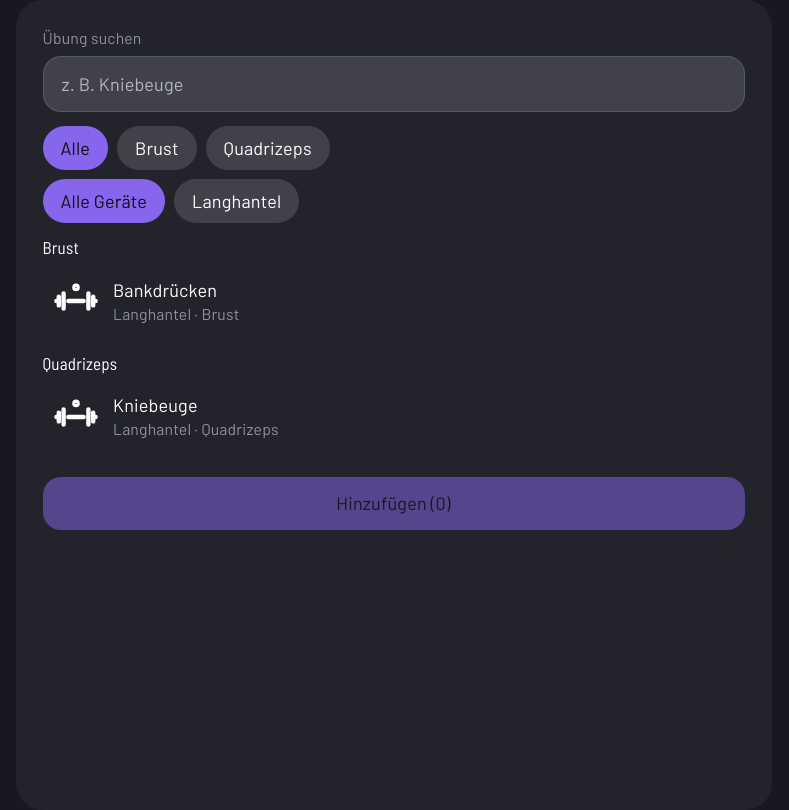
Scenario: ExercisePicker › filters by search
Step 1. Type "Kniebeuge" into the field labelled "Übung suchen" → (394, 84), box x1=42 y1=56 x2=744 y2=112
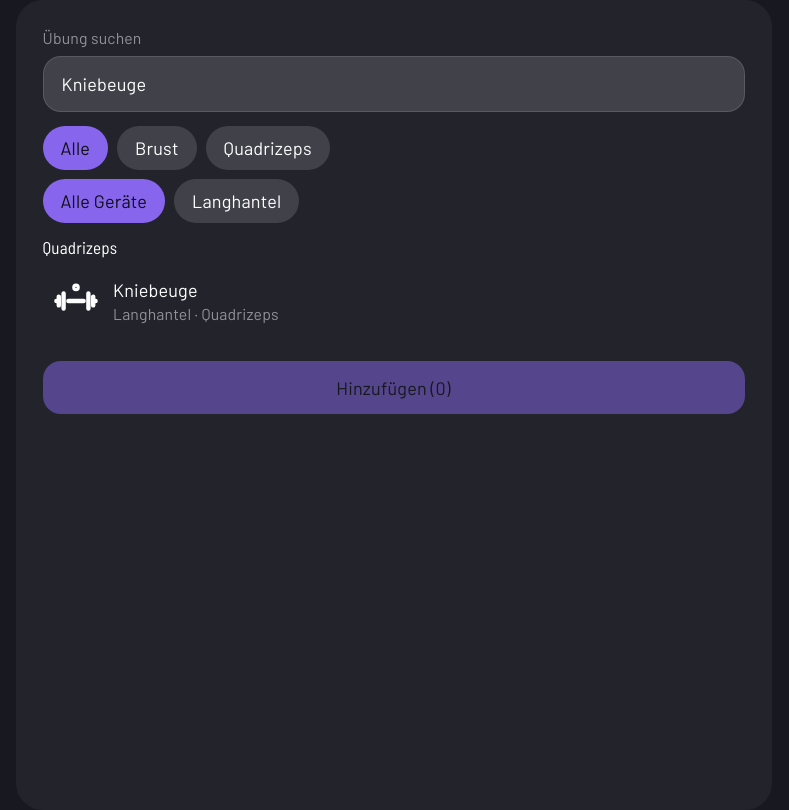
Expected: the button "Kniebeuge Langhantel · Quadrizeps" is shown, x1=42 y1=263 x2=744 y2=339
Expected: the button "Bankdrücken" is gone
